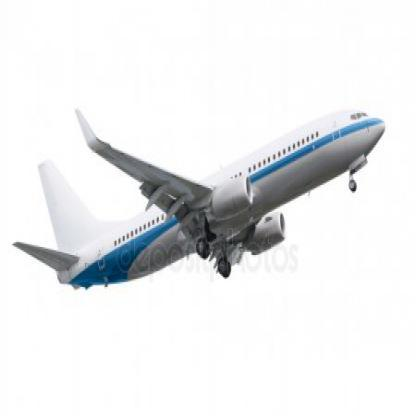CIV_Plane: (10, 102, 387, 290)
